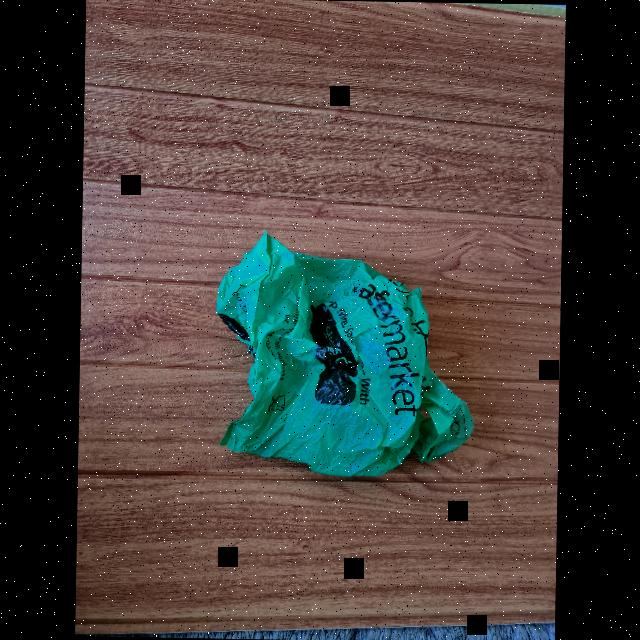plastic_bag: (209, 223, 480, 480)
